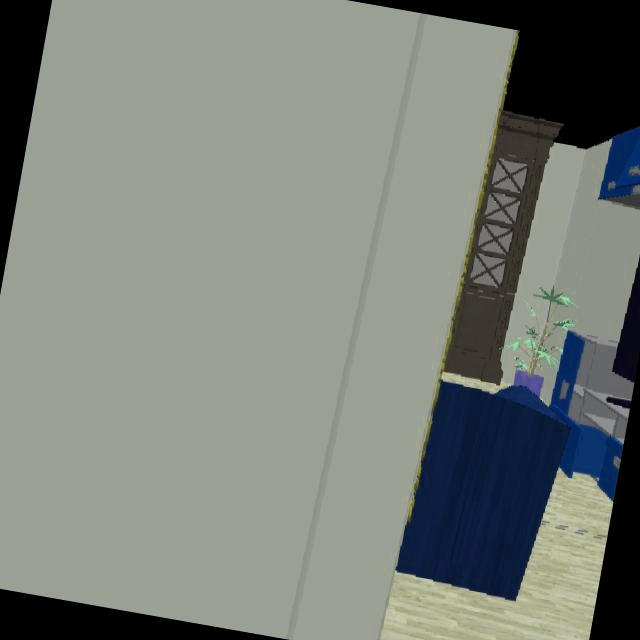bookshelf: (443, 110, 564, 387)
cabinet: (549, 330, 634, 503), (598, 127, 640, 208)
monitor: (613, 251, 640, 384)
sofa: (395, 380, 574, 600)
